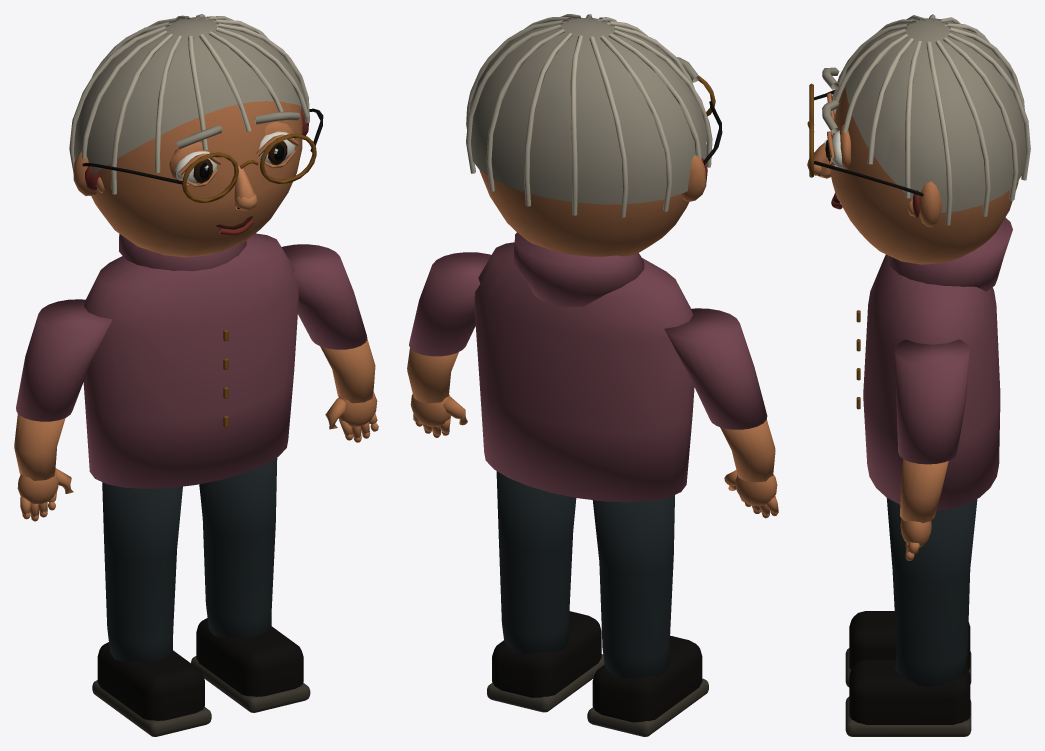
The model's file is patient-30.glb.
3 views of the same model, side by side, from view 1: azimuth 30°, elevation 25°; view 2: azimuth 150°, elevation 25°; view 3: azimuth 270°, elevation 25° (orthographic).
Visible parts, largest first — view 1: Body, Head, LegL, LegR, ArmL, ArmR; view 2: Body, Head, LegL, LegR, ArmL, ArmR; view 3: Head, Body, LegR, ArmR, LegL.
Boxes of the visible parts, x1,y1,x2,y2 form: Body: [83, 219, 298, 488]; Head: [69, 14, 323, 257]; LegL: [92, 482, 211, 736]; LegR: [191, 457, 310, 712]; ArmL: [14, 299, 112, 521]; ArmR: [281, 244, 378, 442]; Body: [474, 232, 694, 502]; Head: [466, 14, 722, 256]; LegL: [587, 495, 708, 736]; LegR: [487, 471, 604, 712]; ArmL: [664, 308, 778, 518]; ArmR: [407, 252, 491, 437]; Head: [807, 14, 1030, 264]; Body: [831, 196, 1012, 510]; LegR: [845, 498, 977, 736]; ArmR: [894, 339, 969, 560]; LegL: [845, 611, 971, 687].
Bounding box in the file's own units: 0.7211 × 1.29 × 0.389.
